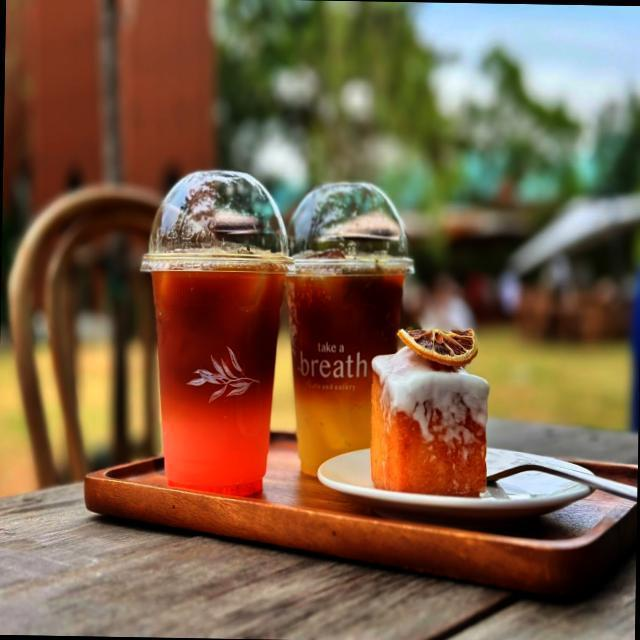cup: (278, 152, 450, 468), (142, 153, 270, 514)
